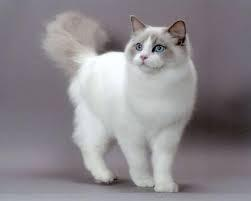ragdoll: (119, 1, 195, 90)
